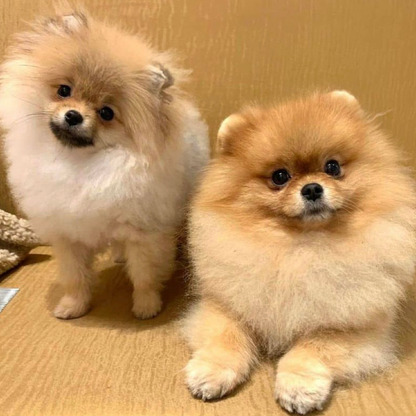Pomeranian: (212, 71, 404, 400), (11, 15, 199, 321)
